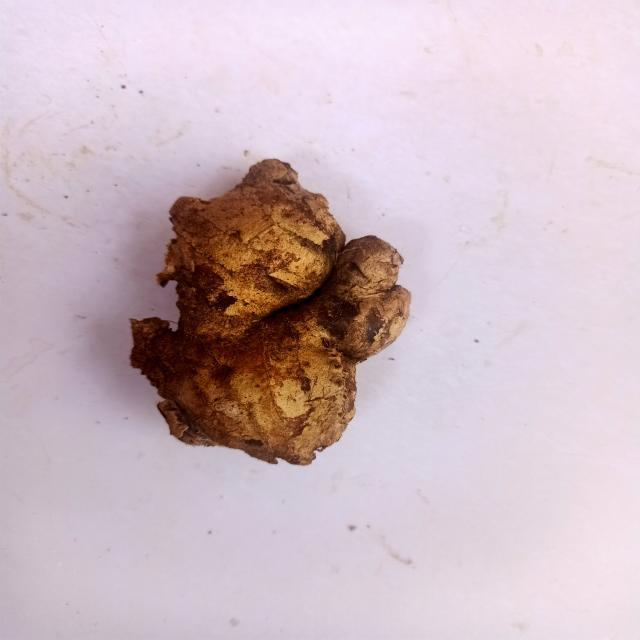Ginger: (99, 140, 434, 476)
